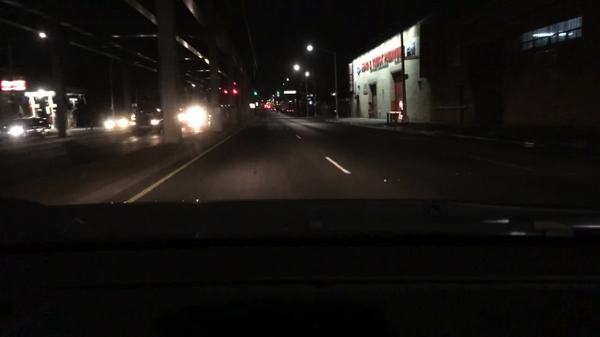car: (1, 117, 49, 140), (179, 110, 204, 131), (103, 111, 128, 131), (286, 110, 293, 116)
traffic light: (223, 89, 227, 96), (233, 90, 237, 96), (254, 90, 257, 96)
traffic sign: (283, 89, 295, 95), (249, 103, 255, 109), (306, 97, 311, 102), (331, 91, 335, 97), (306, 94, 313, 97), (309, 101, 313, 106)
truck: (134, 91, 165, 134), (279, 100, 290, 112)
